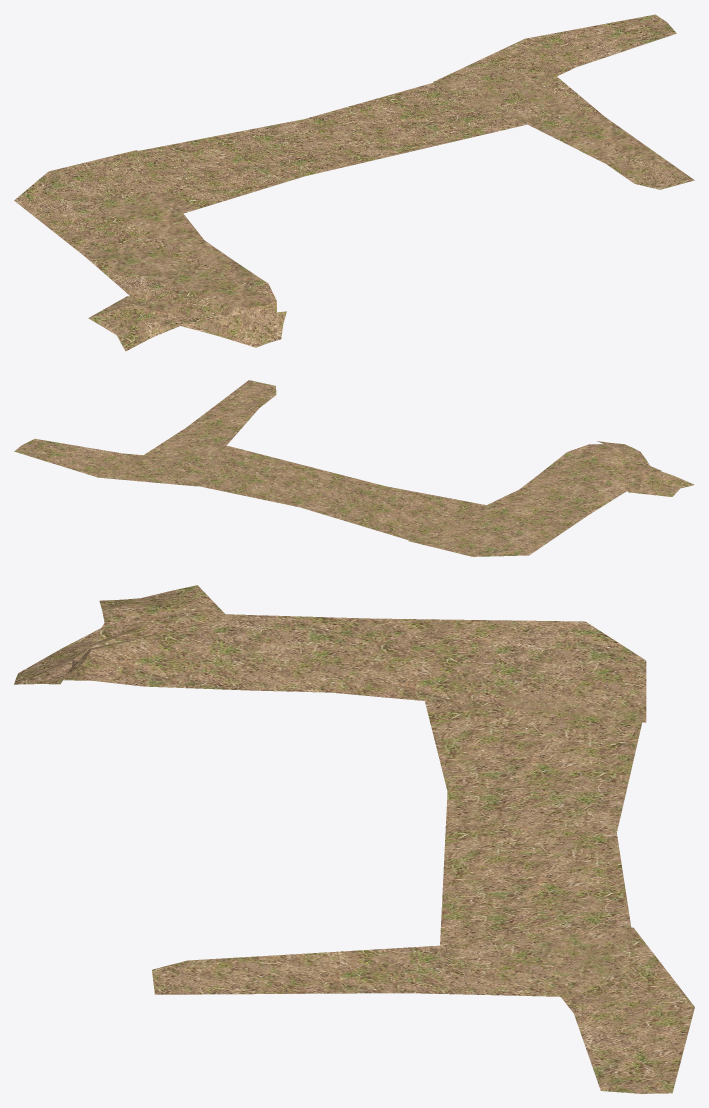
The model's file is caminoB.obj.
3 views of the same model, one above another, from view 1: azimuth 30°, elevation 25°; view 2: azimuth 150°, elevation 25°; view 3: azimuth 270°, elevation 25° (orthographic). The views are drawn at different scales.
Visible parts, largest first — view 1: Plano.004; view 2: Plano.004; view 3: Plano.004.
Boxes of the visible parts, <box> form: Plano.004: <box>14,14,694,351</box>; Plano.004: <box>14,380,694,556</box>; Plano.004: <box>14,585,694,1093</box>.
Bounding box in the file's own units: 192 × 4.91 × 107.
1 material, 1 textured.
